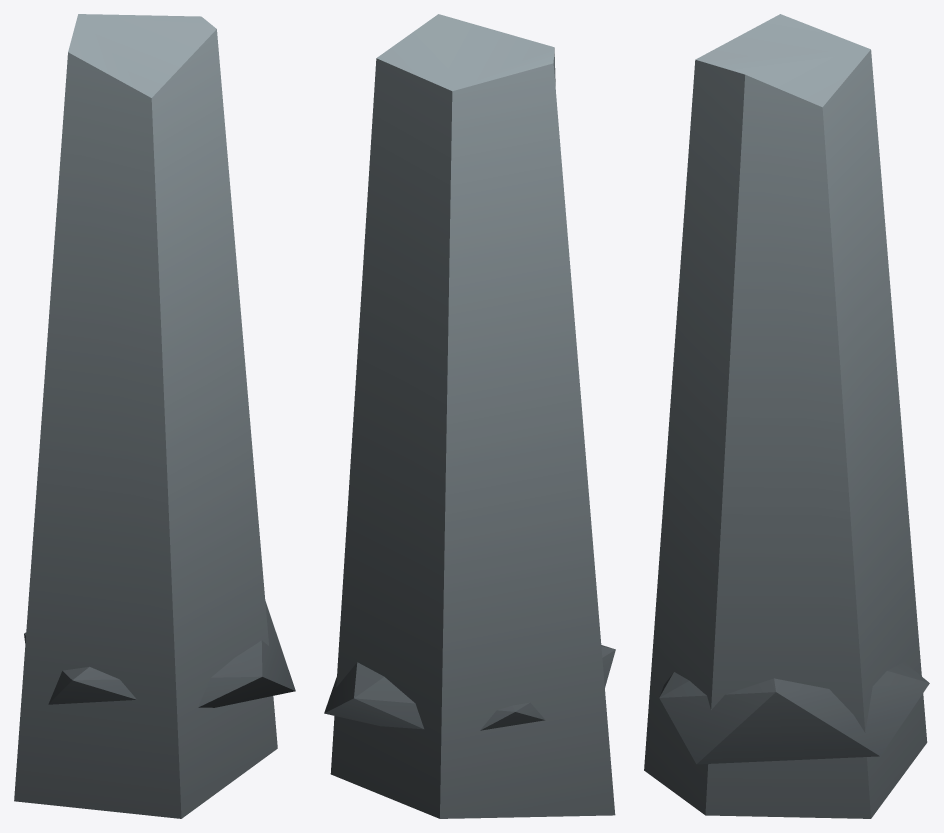
File: standing_stone.glb
3 renders of one model, left to right at view 1: azimuth 30°, elevation 25°; view 2: azimuth 150°, elevation 25°; view 3: azimuth 270°, elevation 25°, orthographic.
Visible parts, largest first — view 1: standing_stone; view 2: standing_stone; view 3: standing_stone.
Boxes of the visible parts, x1,y1,x2,y2 form: standing_stone: [14, 14, 295, 818]; standing_stone: [324, 14, 615, 818]; standing_stone: [644, 14, 929, 818].
Size of the model in its own units: 0.8089 by 2.29 by 0.8008.
1 material, 1 textured.
